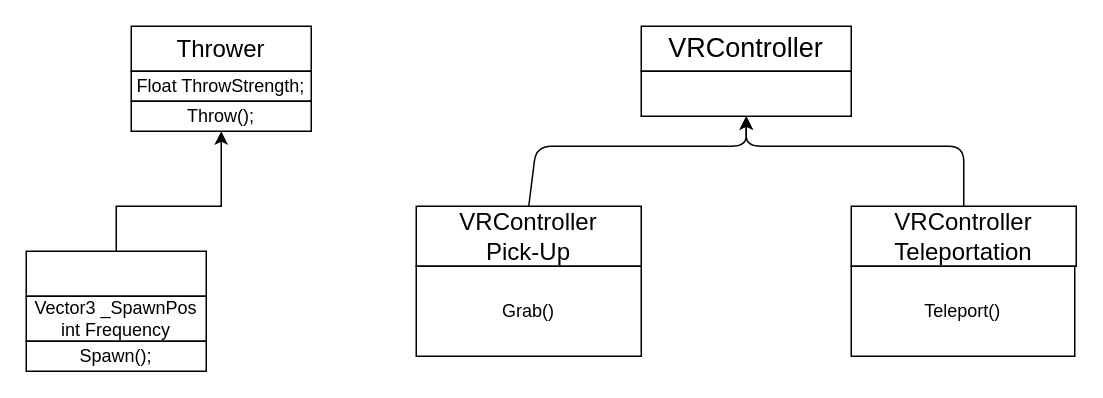
The diagram is 1103 pixels wide and 398 high, and some of its shapes have lost their labels. Here are the shapes that lost their labels. From the top down, the centre of each, then its label:
the point at 745,93: LeftHand() RightHand()
the point at 115,273: Spawner
